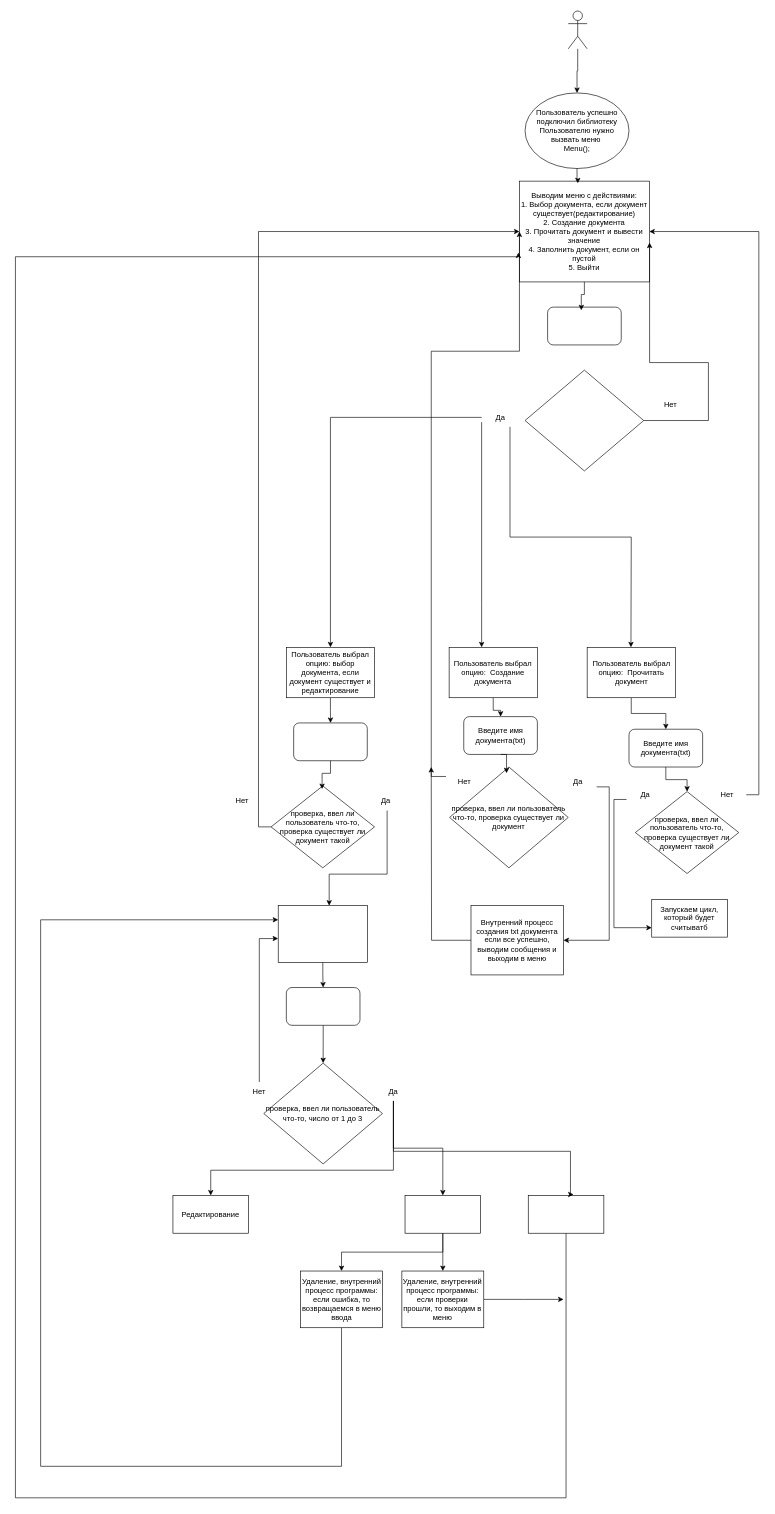
The diagram is 775 pixels wide and 1514 high, and some of its shapes have lost their labels. The centre of each missing label's shape, as x and y in pixels:
"Введите имя документа, для редактирования" goes at pixel 330 741.
"Введите номер опции, от 1 до 3" goes at pixel 323 1006.
"Введите номер опции, от 1 до 5" goes at pixel 584 325.
"Вход" goes at pixel 577 29.
"Выводим меню, с действиями 1. редактирование 2. удалить документ 3. выйти" goes at pixel 322 933.
"Выход" goes at pixel 566 1214.
"проверка, ввел ли пользователь что-то, число от 1 до 5" goes at pixel 584 420.
"Удаление" goes at pixel 442 1214.
